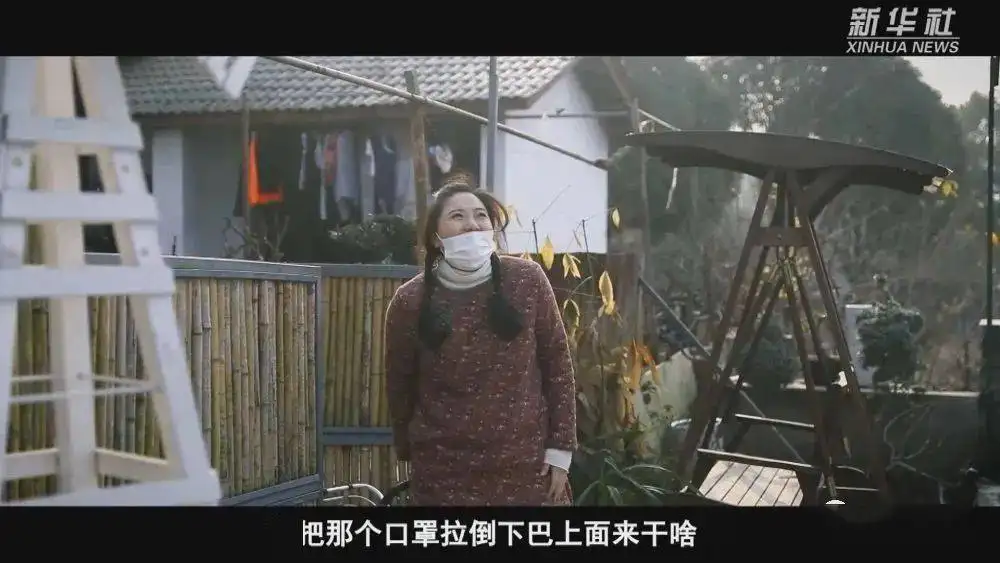nose_out: (427, 191, 497, 275)
